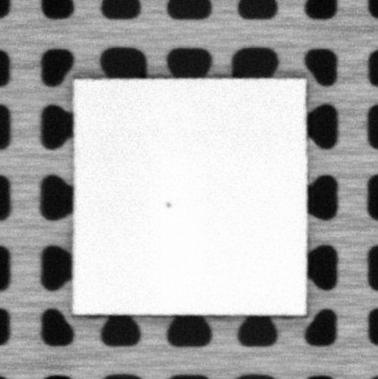DIE_INK: (164, 198, 172, 210)
